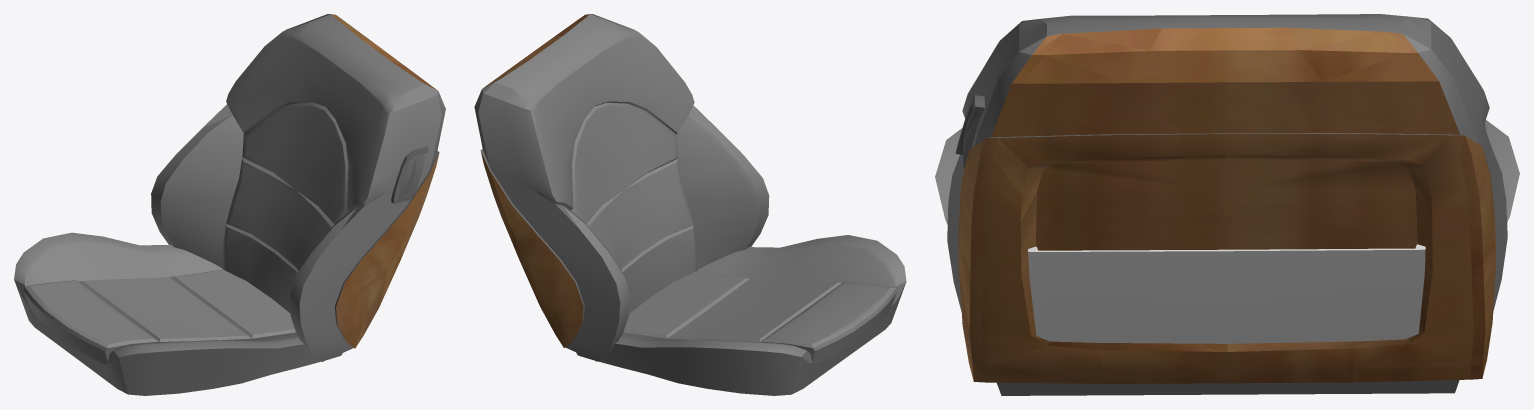
Rendered from car_011.glb.
The picture shows the model from 3 angles, left to right: view 1: azimuth 30°, elevation 25°; view 2: azimuth 150°, elevation 25°; view 3: azimuth 270°, elevation 25°; orthographic projection. The views are drawn at different scales.
Parts seen in each view (by area): view 1: car.011; view 2: car.011; view 3: car.011.
Boxes of the visible parts, x1,y1,x2,y2 form: car.011: (14, 14, 445, 395); car.011: (474, 14, 906, 395); car.011: (935, 14, 1519, 395).
Size of the model in its own units: 2.55 by 1.76 by 2.06.
4 materials, 1 textured.
